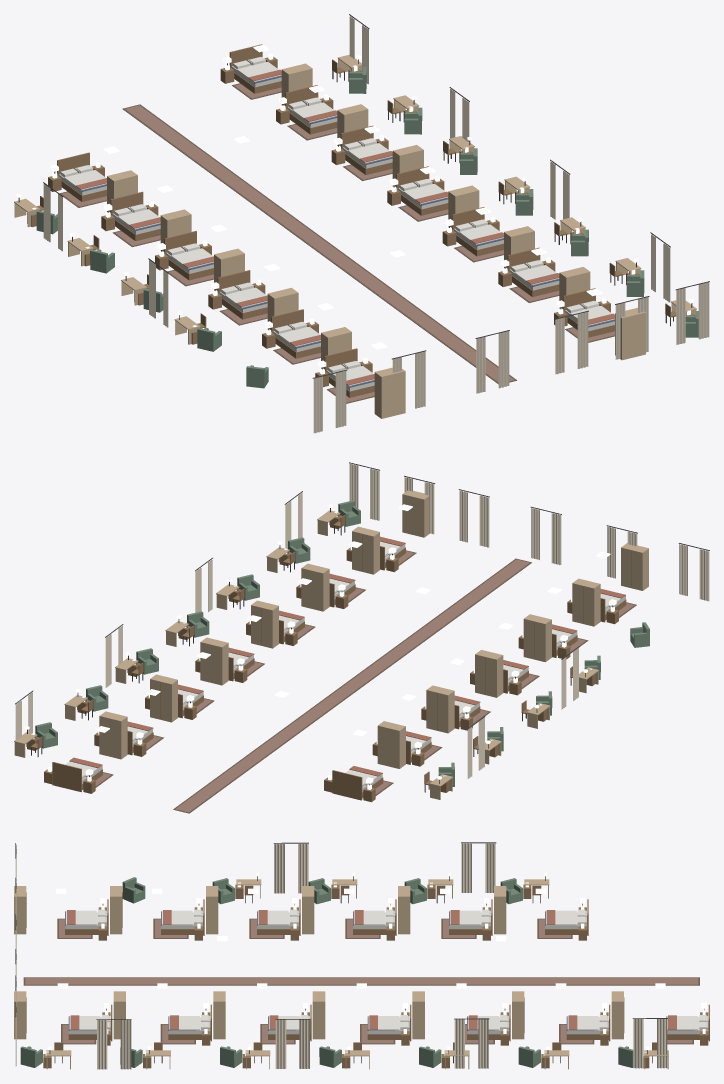
The model's file is fine-s5.glb.
3 views of the same model, one above another, from view 1: azimuth 30°, elevation 25°; view 2: azimuth 150°, elevation 25°; view 3: azimuth 270°, elevation 25° (orthographic). The views are drawn at different scales.
Parts seen in each view (by area): view 1: soft-s5, dresser.057, dresser.064, bed-frame.055, bed-frame.053, bed-frame.056, bed-frame.054, bed-frame.059, bed-frame.052, bed-frame.058, bed-frame.063, bed-frame.061 (+15 smaller); view 2: soft-s5, dresser.053, dresser.052, dresser.054, dresser.055, dresser.056, dresser.060, dresser.058, dresser.062, dresser.057, dresser.061, dresser.063 (+4 smaller); view 3: soft-s5, dresser.061, dresser.058, dresser.060, dresser.062, dresser.052, dresser.053, dresser.054, dresser.055, dresser.056, dresser.059, dresser.057 (+24 smaller).
Boxes of the visible parts, <box> form: soft-s5: <box>43,14,709,433</box>; dresser.057: <box>374,367,405,418</box>; dresser.064: <box>615,307,645,360</box>; bed-frame.055: <box>217,270,267,319</box>; bed-frame.053: <box>110,191,160,241</box>; bed-frame.056: <box>271,309,320,358</box>; bed-frame.054: <box>164,231,213,280</box>; bed-frame.059: <box>285,85,337,134</box>; bed-frame.052: <box>57,152,106,201</box>; bed-frame.058: <box>229,44,281,93</box>; bed-frame.063: <box>507,247,559,296</box>; bed-frame.061: <box>396,166,448,215</box>; soft-s5: <box>15,462,709,813</box>; dresser.053: <box>426,685,454,733</box>; dresser.052: <box>377,721,405,768</box>; dresser.054: <box>475,650,503,697</box>; dresser.055: <box>523,614,551,662</box>; dresser.056: <box>572,578,600,626</box>; dresser.060: <box>200,637,228,685</box>; dresser.058: <box>99,711,127,759</box>; dresser.062: <box>301,563,329,611</box>; dresser.057: <box>621,543,648,590</box>; dresser.061: <box>251,600,278,648</box>; dresser.063: <box>352,526,379,574</box>; soft-s5: <box>15,842,706,1069</box>; dresser.061: <box>312,991,325,1039</box>; dresser.058: <box>611,991,624,1039</box>; dresser.060: <box>412,991,424,1039</box>; dresser.062: <box>213,991,225,1039</box>; dresser.052: <box>494,886,506,934</box>; dresser.053: <box>398,886,410,934</box>; dresser.054: <box>302,886,314,934</box>; dresser.055: <box>206,886,218,934</box>; dresser.056: <box>110,886,122,934</box>; dresser.059: <box>512,991,524,1039</box>; dresser.057: <box>14,886,26,934</box>.
Size of the model in its own units: 20.16 by 2.71 by 33.48.
